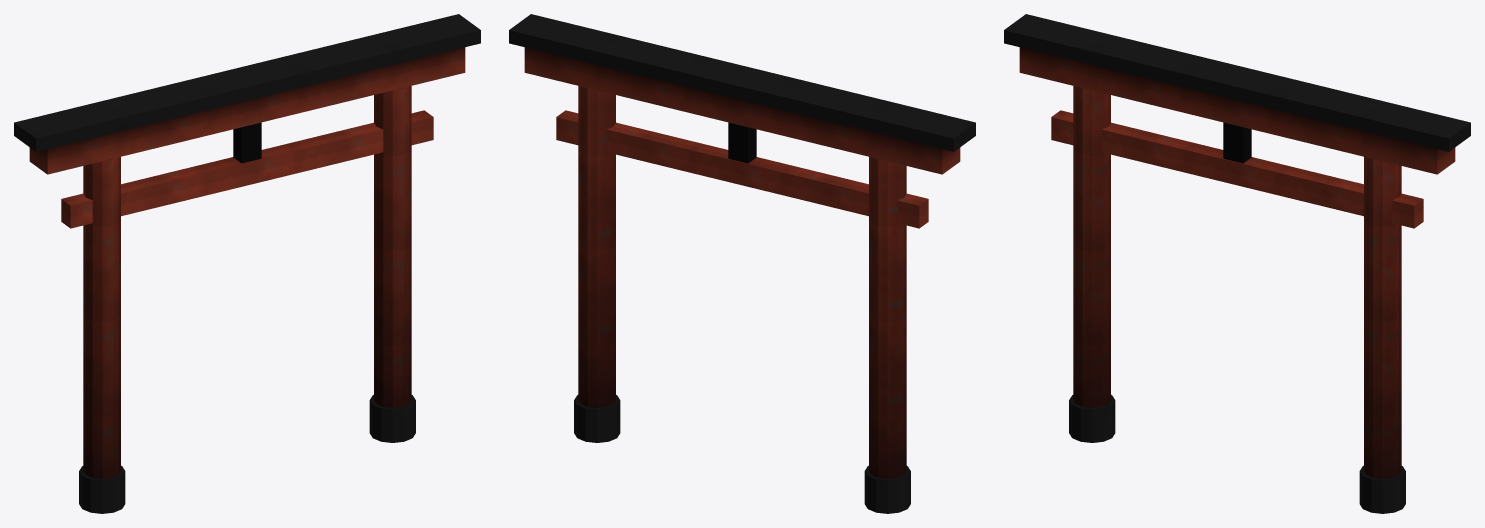
File: torii.glb
The picture shows the model from 3 angles, left to right: view 1: azimuth 30°, elevation 25°; view 2: azimuth 150°, elevation 25°; view 3: azimuth 330°, elevation 25°; orthographic projection.
Visible parts, largest first — view 1: torii; view 2: torii; view 3: torii.
Part boxes in pixels (left/top/right/bottom): torii: left=14, top=14, right=480, bottom=513; torii: left=509, top=14, right=975, bottom=513; torii: left=1004, top=14, right=1470, bottom=513.
Bounding box in the file's own units: 4.9 × 4.13 × 0.44.
2 materials, 2 textured.
